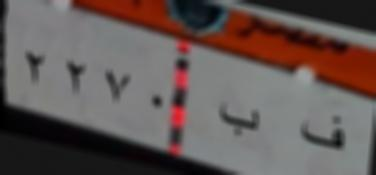0: (144, 85, 168, 113)
2: (61, 53, 91, 98), (20, 42, 49, 86)
7: (101, 64, 130, 108)
baa: (208, 97, 264, 146)
faa: (294, 107, 350, 157)
